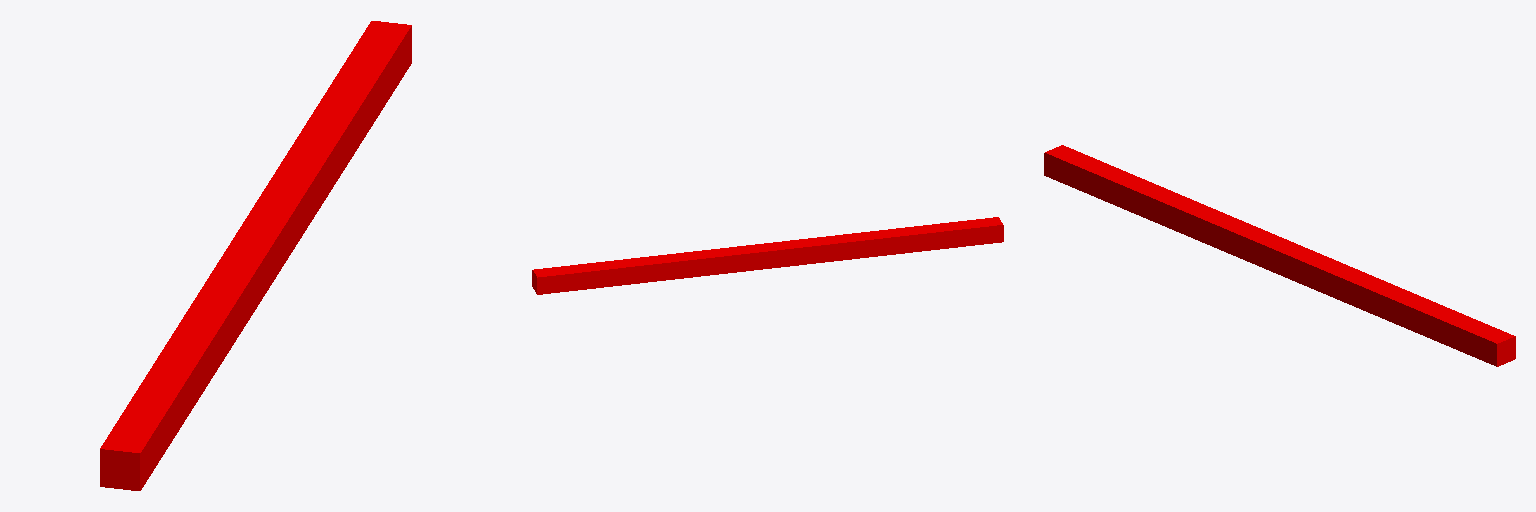
robot.urdf — panda:
<?xml version="1.0" ?>
<!-- =================================================================================== -->
<!-- |    This document was autogenerated by xacro from panda_arm_hand.urdf.xacro      | -->
<!-- |    EDITING THIS FILE BY HAND IS NOT RECOMMENDED                                 | -->
<!-- =================================================================================== -->
<robot name="panda"
  xmlns:xacro="http://www.ros.org/wiki/xacro">
  <link name="panda_link0">
    <inertial>
      <origin rpy="0 0 0" xyz="0 0 0.05"/>
      <mass value="2.9"/>
      <inertia ixx="0.1" ixy="0" ixz="0" iyy="0.1" iyz="0" izz="0.1"/>
    </inertial>
    <visual>
      <geometry>
        <mesh filename="package://meshes/collision/link0.obj"/>
      </geometry>
      <material name="panda_white">
        <color rgba="1. 1. 1. 1."/>
      </material>
    </visual>
    <collision>
      <geometry>
        <mesh filename="package://meshes/collision/link0.obj"/>
      </geometry>
      <material name="panda_white"/>
    </collision>
  </link>
  <link name="panda_link1">
    <inertial>
      <origin rpy="0 0 0" xyz="0 -0.04 -0.05"/>
      <mass value="2.7"/>
      <inertia ixx="0.1" ixy="0" ixz="0" iyy="0.1" iyz="0" izz="0.1"/>
    </inertial>
    <visual>
      <geometry>
        <mesh filename="package://meshes/visual/link1.obj"/>
      </geometry>
      <material name="panda_white"/>
    </visual>
    <collision>
      <geometry>
        <mesh filename="package://meshes/collision/link1.obj"/>
      </geometry>
      <material name="panda_white"/>
    </collision>
  </link>
  <joint name="panda_joint1" type="revolute">
    <safety_controller k_position="100.0" k_velocity="40.0" soft_lower_limit="-2.8973" soft_upper_limit="2.8973"/>
    <origin rpy="0 0 0" xyz="0 0 0.333"/>
    <parent link="panda_link0"/>
    <child link="panda_link1"/>
    <axis xyz="0 0 1"/>
    <limit effort="87" lower="-2.9671" upper="2.9671" velocity="2.1750"/>
  </joint>
  <link name="panda_link2">
    <inertial>
      <origin rpy="0 0 0" xyz="0 -0.04 0.06"/>
      <mass value="2.73"/>
      <inertia ixx="0.1" ixy="0" ixz="0" iyy="0.1" iyz="0" izz="0.1"/>
    </inertial>
    <visual>
      <geometry>
        <mesh filename="package://meshes/visual/link2.obj"/>
      </geometry>
      <material name="panda_white"/>
    </visual>
    <collision>
      <geometry>
        <mesh filename="package://meshes/collision/link2.obj"/>
      </geometry>
      <material name="panda_white"/>
    </collision>
  </link>
  <joint name="panda_joint2" type="revolute">
    <safety_controller k_position="100.0" k_velocity="40.0" soft_lower_limit="-1.7628" soft_upper_limit="1.7628"/>
    <origin rpy="-1.57079632679 0 0" xyz="0 0 0"/>
    <parent link="panda_link1"/>
    <child link="panda_link2"/>
    <axis xyz="0 0 1"/>
    <limit effort="87" lower="-1.8326" upper="1.8326" velocity="2.1750"/>
  </joint>
  <link name="panda_link3">
    <inertial>
      <origin rpy="0 0 0" xyz="0.01 0.01 -0.05"/>
      <mass value="2.04"/>
      <inertia ixx="0.1" ixy="0" ixz="0" iyy="0.1" iyz="0" izz="0.1"/>
    </inertial>
    <visual>
      <geometry>
        <mesh filename="package://meshes/visual/link3.obj"/>
      </geometry>
      <material name="panda_red">
        <color rgba="1. 1. 1. 1."/>
      </material>
    </visual>
    <collision>
      <geometry>
        <mesh filename="package://meshes/collision/link3.obj"/>
      </geometry>
    </collision>
  </link>
  <joint name="panda_joint3" type="revolute">
    <safety_controller k_position="100.0" k_velocity="40.0" soft_lower_limit="-2.8973" soft_upper_limit="2.8973"/>
    <origin rpy="1.57079632679 0 0" xyz="0 -0.316 0"/>
    <parent link="panda_link2"/>
    <child link="panda_link3"/>
    <axis xyz="0 0 1"/>
    <limit effort="87" lower="-2.9671" upper="2.9671" velocity="2.1750"/>
  </joint>
  <link name="panda_link4">
    <inertial>
      <origin rpy="0 0 0" xyz="-0.03 0.03 0.02"/>
      <mass value="2.08"/>
      <inertia ixx="0.1" ixy="0" ixz="0" iyy="0.1" iyz="0" izz="0.1"/>
    </inertial>
    <visual>
      <geometry>
        <mesh filename="package://meshes/visual/link4.obj"/>
      </geometry>
      <material name="panda_white"/>
    </visual>
    <collision>
      <geometry>
        <mesh filename="package://meshes/collision/link4.obj"/>
      </geometry>
      <material name="panda_white"/>
    </collision>
  </link>
  <joint name="panda_joint4" type="revolute">
    <safety_controller k_position="100.0" k_velocity="40.0" soft_lower_limit="-3.0718" soft_upper_limit="-0.0698"/>
    <origin rpy="1.57079632679 0 0" xyz="0.0825 0 0"/>
    <parent link="panda_link3"/>
    <child link="panda_link4"/>
    <axis xyz="0 0 1"/>
    <limit effort="87" lower="-3.1416" upper="0.0" velocity="2.1750"/>
  </joint>
  <link name="panda_link5">
    <inertial>
      <origin rpy="0 0 0" xyz="0 0.04 -0.12"/>
      <mass value="3"/>
      <inertia ixx="0.1" ixy="0" ixz="0" iyy="0.1" iyz="0" izz="0.1"/>
    </inertial>
    <visual>
      <geometry>
        <mesh filename="package://meshes/visual/link5.obj"/>
      </geometry>
      <material name="panda_white"/>
    </visual>
    <collision>
      <geometry>
        <mesh filename="package://meshes/collision/link5.obj"/>
      </geometry>
      <material name="panda_white"/>
    </collision>
  </link>
  <joint name="panda_joint5" type="revolute">
    <safety_controller k_position="100.0" k_velocity="40.0" soft_lower_limit="-2.8973" soft_upper_limit="2.8973"/>
    <origin rpy="-1.57079632679 0 0" xyz="-0.0825 0.384 0"/>
    <parent link="panda_link4"/>
    <child link="panda_link5"/>
    <axis xyz="0 0 1"/>
    <limit effort="12" lower="-2.9671" upper="2.9671" velocity="2.6100"/>
  </joint>
  <link name="panda_link6">
    <inertial>
      <origin rpy="0 0 0" xyz="0.04 0 0"/>
      <mass value="1.3"/>
      <inertia ixx="0.1" ixy="0" ixz="0" iyy="0.1" iyz="0" izz="0.1"/>
    </inertial>
    <visual>
      <geometry>
        <mesh filename="package://meshes/visual/link6.obj"/>
      </geometry>
      <material name="panda_white"/>
    </visual>
    <collision>
      <geometry>
        <mesh filename="package://meshes/collision/link6.obj"/>
      </geometry>
      <material name="panda_white"/>
    </collision>
  </link>
  <joint name="panda_joint6" type="revolute">
    <safety_controller k_position="100.0" k_velocity="40.0" soft_lower_limit="-0.0175" soft_upper_limit="3.7525"/>
    <origin rpy="1.57079632679 0 0" xyz="0 0 0"/>
    <parent link="panda_link5"/>
    <child link="panda_link6"/>
    <axis xyz="0 0 1"/>
    <limit effort="12" lower="-0.0873" upper="3.8223" velocity="2.6100"/>
  </joint>
  <link name="panda_link7">
    <inertial>
      <origin rpy="0 0 0" xyz="0 0 0.08"/>
      <mass value=".2"/>
      <inertia ixx="0.1" ixy="0" ixz="0" iyy="0.1" iyz="0" izz="0.1"/>
    </inertial>
    <visual>
      <geometry>
        <mesh filename="package://meshes/collision/link7.obj"/>
      </geometry>
      <material name="panda_white"/>
    </visual>
    <collision>
      <geometry>
        <mesh filename="package://meshes/collision/link7.obj"/>
      </geometry>
      <material name="panda_white"/>
    </collision>
  </link>
  <joint name="panda_joint7" type="revolute">
    <safety_controller k_position="100.0" k_velocity="40.0" soft_lower_limit="-2.8973" soft_upper_limit="2.8973"/>
    <origin rpy="1.57079632679 0 0" xyz="0.088 0 0"/>
    <parent link="panda_link6"/>
    <child link="panda_link7"/>
    <axis xyz="0 0 1"/>
    <limit effort="12" lower="-2.9671" upper="2.9671" velocity="2.6100"/>
  </joint>
  <link name="panda_link8">
    <inertial>
      <origin rpy="0 0 0" xyz="0 0 0"/>
      <mass value="0.0"/>
      <inertia ixx="0.1" ixy="0" ixz="0" iyy="0.1" iyz="0" izz="0.1"/>
    </inertial>
  </link>
  <joint name="panda_joint8" type="fixed">
    <origin rpy="0 0 0" xyz="0 0 0.107"/>
    <parent link="panda_link7"/>
    <child link="panda_link8"/>
    <axis xyz="0 0 0"/>
  </joint>
  <joint name="panda_hand_joint" type="fixed">
    <parent link="panda_link8"/>
    <child link="panda_hand"/>
    <origin rpy="0 0 -0.785398163397" xyz="0 0 0"/>
  </joint>
  <link name="panda_hand">
    <inertial>
      <origin rpy="0 0 0" xyz="0 0 0.04"/>
      <mass value=".81"/>
      <inertia ixx="0.1" ixy="0" ixz="0" iyy="0.1" iyz="0" izz="0.1"/>
    </inertial>
    <visual>
      <geometry>
        <mesh filename="package://meshes/visual/hand.obj"/>
      </geometry>
      <material name="panda_white"/>
    </visual>
    <collision>
      <geometry>
        <mesh filename="package://meshes/collision/hand.obj"/>
      </geometry>
      <material name="panda_white"/>
    </collision>
  </link>
  <link name="panda_leftfinger">
    <contact>
      <friction_anchor/>
      <stiffness value="30000.0"/>
      <damping value="1000.0"/>
      <spinning_friction value="0.1"/>
      <lateral_friction value="1.0"/>
    </contact>
    <inertial>
      <origin rpy="0 0 0" xyz="0 0.01 0.02"/>
      <mass value="0.1"/>
      <inertia ixx="0.1" ixy="0" ixz="0" iyy="0.1" iyz="0" izz="0.1"/>
    </inertial>
    <visual>
      <geometry>
        <mesh filename="package://meshes/visual/finger.obj"/>
      </geometry>
      <material name="panda_white"/>
    </visual>
    <collision>
      <geometry>
        <mesh filename="package://meshes/collision/finger.obj"/>
      </geometry>
      <material name="panda_white"/>
    </collision>
  </link>
  <link name="panda_rightfinger">
    <contact>
      <friction_anchor/>
      <stiffness value="30000.0"/>
      <damping value="1000.0"/>
      <spinning_friction value="0.1"/>
      <lateral_friction value="1.0"/>
    </contact>
    <inertial>
      <origin rpy="0 0 0" xyz="0 -0.01 0.02"/>
      <mass value="0.1"/>
      <inertia ixx="0.1" ixy="0" ixz="0" iyy="0.1" iyz="0" izz="0.1"/>
    </inertial>
    <visual>
      <origin rpy="0 0 3.14159265359" xyz="0 0 0"/>
      <geometry>
        <mesh filename="package://meshes/visual/finger.obj"/>
      </geometry>
      <material name="panda_white"/>
    </visual>
    <collision>
      <origin rpy="0 0 3.14159265359" xyz="0 0 0"/>
      <geometry>
        <mesh filename="package://meshes/collision/finger.obj"/>
      </geometry>
      <material name="panda_white"/>
    </collision>
  </link>

  <link name="stick">
    <contact>
      <friction_anchor/>
      <stiffness value="30000.0"/>
      <damping value="1000.0"/>
      <spinning_friction value="0.1"/>
      <lateral_friction value="1.0"/>
    </contact>
    <inertial>
      <origin rpy="0 0 0" xyz="0 0 0"/>
      <mass value="0.1"/>
      <inertia ixx="0.1" ixy="0" ixz="0" iyy="0.1" iyz="0" izz="0.1"/>
    </inertial>
    <visual>
      <origin rpy="0 0 0" xyz="-0.0375 0 0"/>
      <geometry>
        <box size="0.075 0.003 0.003"/>
      </geometry>
      <material name="stick_red">
        <color rgba="1 0.0 0.0 1"/>
      </material>
    </visual>
    <collision>
      <origin rpy="0 0 0" xyz="-0.0375 0 0"/>
      <geometry>
        <box size="0.075 0.003 0.003"/>
      </geometry>
    </collision>
  </link>
  <joint name="stick_finger_joint" type="fixed">
    <parent link="panda_rightfinger"/>
    <child link="stick"/>
    <origin rpy="0 0 0" xyz="0 0 0.05"/>
  </joint>

  <link name="sticktarget">
    <inertial>
      <origin rpy="0 0 0" xyz="0 0 0"/>
      <mass value="0.0"/>
      <inertia ixx="0.1" ixy="0" ixz="0" iyy="0.1" iyz="0" izz="0.1"/>
    </inertial>
  </link>
  <joint name="sticktarget_hand" type="fixed">
    <parent link="stick"/>
    <child link="sticktarget"/>
    <origin rpy="0 0 0" xyz="-0.075 0 0"/>
  </joint>

  <joint name="panda_finger_joint1" type="prismatic">
    <parent link="panda_hand"/>
    <child link="panda_leftfinger"/>
    <origin rpy="0 0 0" xyz="0 0 0.0584"/>
    <axis xyz="0 1 0"/>
    <limit effort="20" lower="0.0" upper="0.04" velocity="0.2"/>
  </joint>
  <joint name="panda_finger_joint2" type="prismatic">
    <parent link="panda_hand"/>
    <child link="panda_rightfinger"/>
    <origin rpy="0 0 0" xyz="0 0 0.0584"/>
    <axis xyz="0 -1 0"/>
    <limit effort="20" lower="0.0" upper="0.04" velocity="0.2"/>
    <mimic joint="panda_finger_joint1"/>
  </joint>
  <link name="panda_grasptarget">
    <inertial>
      <origin rpy="0 0 0" xyz="0 0 0"/>
      <mass value="0.0"/>
      <inertia ixx="0.1" ixy="0" ixz="0" iyy="0.1" iyz="0" izz="0.1"/>
    </inertial>
  </link>
  <joint name="panda_grasptarget_hand" type="fixed">
    <parent link="panda_hand"/>
    <child link="panda_grasptarget"/>
    <origin rpy="0 0 0" xyz="0 0 0.105"/>
  </joint>

</robot>

--- What the picture shows (computed from the rendered views, not written in the file) ---
Views: 3 orthographic renders of the robot side by side, from view 1: azimuth 30°, elevation 25°; view 2: azimuth 150°, elevation 25°; view 3: azimuth 270°, elevation 25°.
Model panda with 15 links and 14 joints (7 revolute, 2 prismatic, 5 fixed), rooted at panda_link0, posed every joint at zero.
Visible links, largest first — view 1: stick; view 2: stick; view 3: stick.
Link boxes in pixels (x1,y1,x2,y2): stick: (100,21,411,490); stick: (532,217,1003,294); stick: (1044,145,1515,366).
Size in the robot's own frame: 0.0552 by 0.0552 by 0.003 metres.
Meshes: 10 distinct files referenced, 0 mesh visuals loaded (none loaded); not drawn: 11 (reference not matched to a file when rendering).